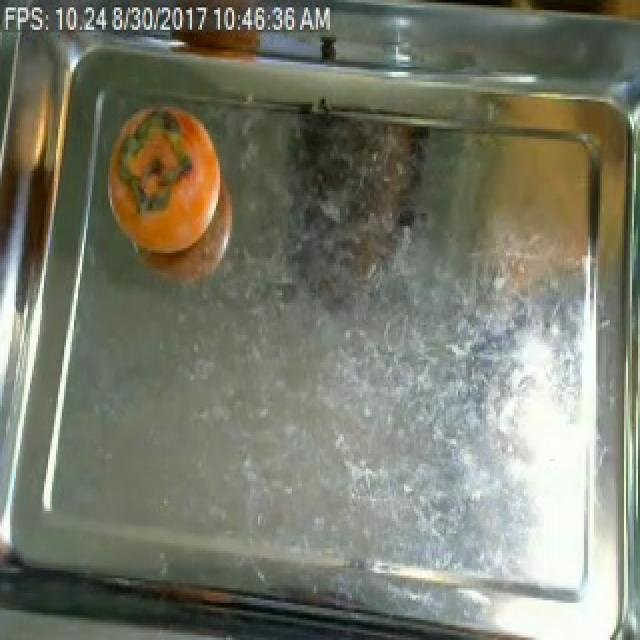Fruit: (462, 126, 602, 318), (102, 90, 232, 266)
